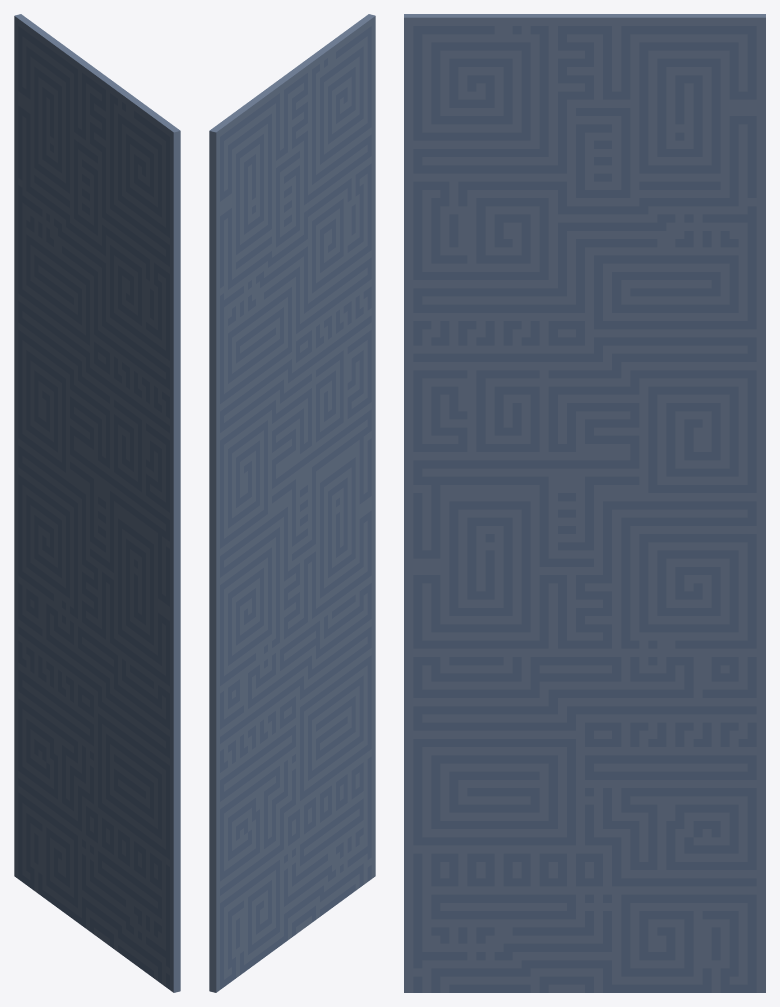
Rendered from aztec wall.fbx.
3 renders of one model, left to right at view 1: azimuth 30°, elevation 25°; view 2: azimuth 150°, elevation 25°; view 3: azimuth 270°, elevation 25°, orthographic. The views are drawn at different scales.
Parts seen in each view (by area): view 1: Box_31; view 2: Box_31; view 3: Box_31.
Boxes of the visible parts, <box> form: Box_31: <box>14,14,180,992</box>; Box_31: <box>209,14,375,992</box>; Box_31: <box>404,14,765,992</box>.
Bounding box in the file's own units: 1 × 119 × 40.
